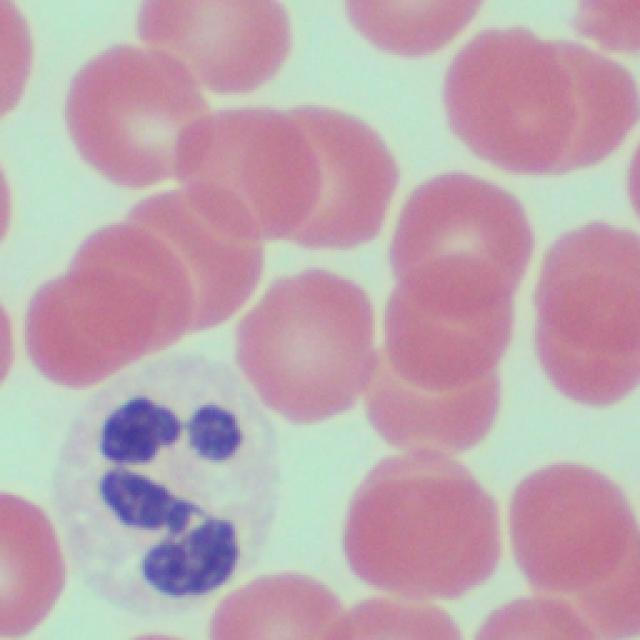RBC: (358, 164, 518, 462), (430, 20, 640, 176), (334, 444, 499, 630), (508, 450, 640, 640), (238, 266, 375, 434), (67, 37, 206, 196), (526, 209, 636, 409), (180, 104, 320, 249), (255, 104, 395, 237), (75, 221, 194, 347), (145, 0, 295, 96), (29, 281, 122, 389), (0, 480, 62, 637), (337, 0, 487, 59), (0, 1, 31, 127)
WBC: (60, 372, 279, 614)
